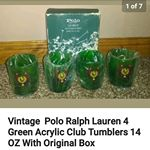cups: (3, 52, 43, 98), (105, 46, 145, 92), (74, 48, 106, 94), (42, 47, 74, 93)
